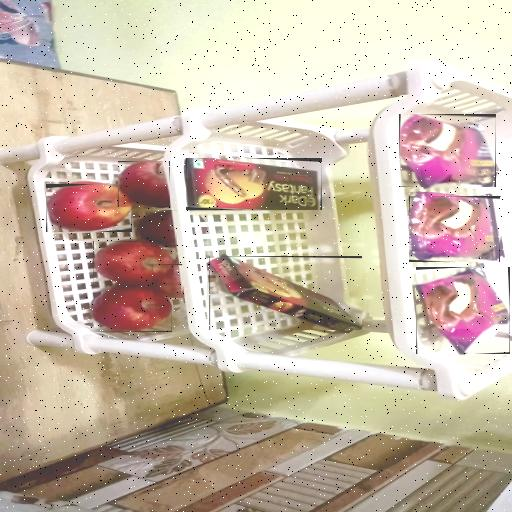Apple: (46, 184, 132, 232), (90, 285, 172, 332), (93, 241, 176, 287), (118, 161, 170, 207), (137, 210, 177, 246), (154, 264, 184, 298)
Choco Fills: (209, 256, 362, 330), (186, 158, 322, 210)
Choco Pie: (416, 267, 510, 354), (399, 114, 496, 187), (410, 196, 502, 262)
